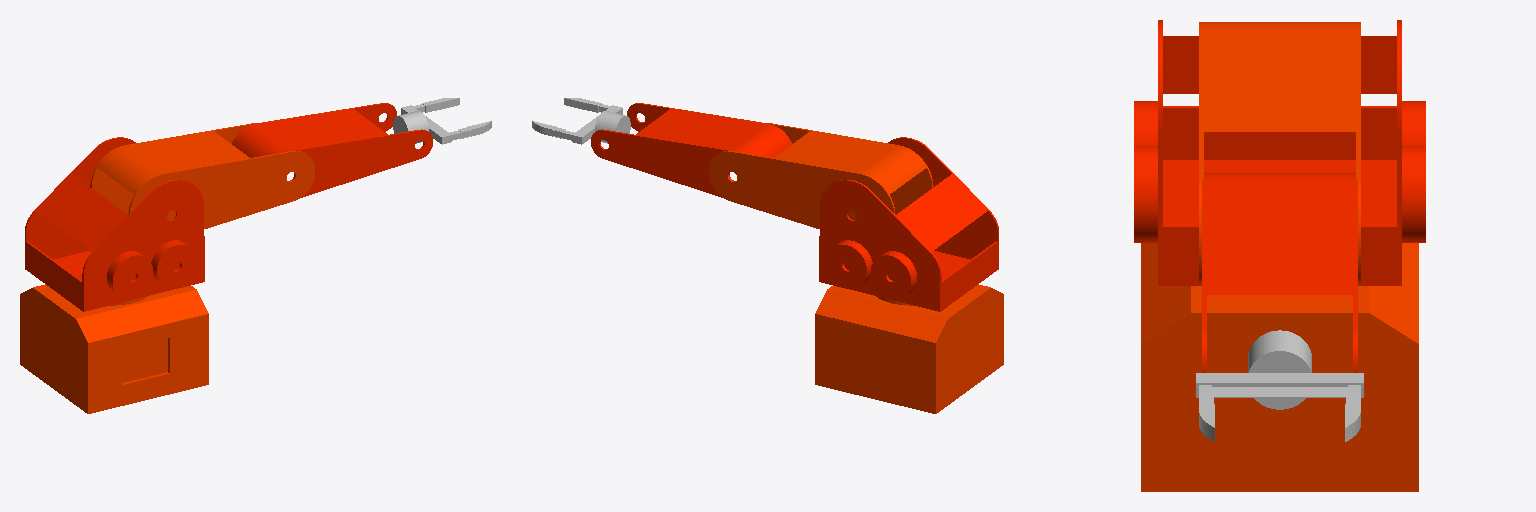
URDF robot description (cobra_rs2):
<?xml version="1.0" ?>
<robot name="cobra_rs2">

<!-- ROBOT -->

  <!-- LINKS -->

  <link name="base_link">
    <visual>
      <geometry>
        <mesh filename="package://cobra_rs2_moveit_config/meshes/base.stl" scale="0.001 0.001 0.001"/>
      </geometry>
      <material name="orange">
        <color rgba="1 0.3 0 1"/>
      </material>
      <origin xyz="-0.089 0 0"/>
    </visual>
    <collision>
      <origin xyz="-0.089 0 0"/>
      <geometry>
        <mesh filename="package://cobra_rs2_moveit_config/meshes/base.stl" scale="0.001 0.001 0.001"/>
      </geometry>
    </collision>
  </link>

  <link name="body_link">
    <visual>
      <geometry>
        <mesh filename="package://cobra_rs2_moveit_config/meshes/body.stl" scale="0.001 0.001 0.001"/>
      </geometry>
      <material name="orangetwo">
        <color rgba="1 0.2 0 1"/>
      </material>
    </visual>
    <collision>
      <geometry>
        <mesh filename="package://cobra_rs2_moveit_config/meshes/body.stl" scale="0.001 0.001 0.001"/>
      </geometry>
    </collision>
  </link>

  <link name="arm_one_link">
    <visual>
      <geometry>
        <mesh filename="package://cobra_rs2_moveit_config/meshes/upper_arm.stl" scale="0.001 0.001 0.001"/>
      </geometry>
      <material name="orange"/>
      <origin xyz="0.095 0 0" rpy="-1.5708 0 0"/>
    </visual>
    <collision>
      <origin xyz="0.095 0 0" rpy="-1.5708 0 0"/>
      <geometry>
        <mesh filename="package://cobra_rs2_moveit_config/meshes/upper_arm.stl" scale="0.001 0.001 0.001"/>
      </geometry>
    </collision>
  </link>

  <link name="arm_two_link">
    <visual>
      <geometry>
        <mesh filename="package://cobra_rs2_moveit_config/meshes/lower_arm.stl" scale="0.001 0.001 0.001"/>
      </geometry>
      <material name="orangetwo"/>
      <origin xyz="0.095 0 0" rpy="-1.5708 0 0"/>
    </visual>
    <collision>
      <origin xyz="0.095 0 0" rpy="-1.5708 0 0"/>
      <geometry>
        <mesh filename="package://cobra_rs2_moveit_config/meshes/lower_arm.stl" scale="0.001 0.001 0.001"/>
      </geometry>
    </collision>
  </link>

  <link name="hand_wrist">
    <visual>
      <geometry>
        <mesh filename="package://cobra_rs2_moveit_config/meshes/hand_wrist.stl" scale="0.001 0.001 0.001"/>
      </geometry>
      <material name="gray">
        <color rgba="0.8 0.8 0.8 1"/>
      </material>
      <origin xyz="0 0 0" rpy="0 1.5708 0"/>
    </visual>
    <collision>
      <origin xyz="0 0 0" rpy="0 1.5708 0"/>
      <geometry>
        <mesh filename="package://cobra_rs2_moveit_config/meshes/hand_wrist.stl" scale="0.001 0.001 0.001"/>
      </geometry>
    </collision>
  </link>

  <link name="hand_tool">
    <visual>
      <geometry>
        <mesh filename="package://cobra_rs2_moveit_config/meshes/hand_tool.stl" scale="0.001 0.001 0.001"/>
      </geometry>
      <material name="gray"/>
      <!-- EEF Offset x= 0.0075 -> -0.0525 -->
      <origin xyz="-0.0525 0 0" rpy="0 0 0"/>
    </visual>
    <collision>
      <origin xyz="-0.0525 0 0" rpy="0 0 0"/>
      <geometry>
        <mesh filename="package://cobra_rs2_moveit_config/meshes/hand_tool.stl" scale="0.001 0.001 0.001"/>
      </geometry>
    </collision>
  </link>

  <link name="finger_one">
    <visual>
      <geometry>
        <mesh filename="package://cobra_rs2_moveit_config/meshes/finger.stl" scale="0.001 0.001 0.001"/>
      </geometry>
      <material name="gray"/>
      <origin xyz="0.022 0 0"/>
    </visual>
    <collision>
      <origin xyz="0.022 0 0"/>
      <geometry>
        <mesh filename="package://cobra_rs2_moveit_config/meshes/finger.stl" scale="0.001 0.001 0.001"/>
      </geometry>
    </collision>
  </link>

  <link name="finger_two">
    <visual>
      <geometry>
        <mesh filename="package://cobra_rs2_moveit_config/meshes/finger.stl" scale="0.001 0.001 0.001"/>
      </geometry>
      <material name="gray"/>
      <origin xyz="0.022 0 0"/>
    </visual>
    <collision>
      <origin xyz="0.022 0 0"/>
      <geometry>
        <mesh filename="package://cobra_rs2_moveit_config/meshes/finger.stl" scale="0.001 0.001 0.001"/>
      </geometry>
    </collision>
  </link>

  <link name="thumb_one">
    <visual>
      <geometry>
        <mesh filename="package://cobra_rs2_moveit_config/meshes/thumb.stl" scale="0.001 0.001 0.001"/>
      </geometry>
      <material name="gray"/>
      <origin xyz="0 0 0" rpy="3.1416 0 0"/>
    </visual>
    <collision>
      <origin xyz="0 0 0" rpy="3.1416 0 0"/>
      <geometry>
        <mesh filename="package://cobra_rs2_moveit_config/meshes/thumb.stl" scale="0.001 0.001 0.001"/>
      </geometry>
    </collision>
  </link>

  <link name="thumb_two">
    <visual>
      <geometry>
        <mesh filename="package://cobra_rs2_moveit_config/meshes/thumb.stl" scale="0.001 0.001 0.001"/>
      </geometry>
      <material name="gray"/>
      <origin xyz="0 0 0" rpy="3.1416 0 0"/>
    </visual>
    <collision>
      <origin xyz="0 0 0" rpy="3.1416 0 0"/>
      <geometry>
        <mesh filename="package://cobra_rs2_moveit_config/meshes/thumb.stl" scale="0.001 0.001 0.001"/>
      </geometry>
    </collision>
  </link>

  <!-- LINKS END -->

  <!-- JOINTS -->

  <joint name="base_body" type="revolute">
    <parent link="base_link"/>
    <child link="body_link"/>
    <!-- lower: -170 Grad upper: 170 Grad -->
    <limit lower="-2.96706" upper="2.96706" effort="100" velocity="1" />
    <axis xyz="0 0 1"/>
    <origin xyz="0 0 0.14"/>
  </joint>

  <joint name="body_arm_one" type="revolute">
    <parent link="body_link"/>
    <child link="arm_one_link"/>
    <!-- lower: -25 Grad upper: 135 Grad -->
    <limit lower="-0.4363" upper="2.3562" effort="100" velocity="1" />
    <axis xyz="0 0 1"/>
    <origin xyz="0.041 0 0.105" rpy="1.5708 0 0"/>
    <!-- Arm im 45 Grad Winkel: p= -.7854 -->
  </joint>

  <joint name="arm_one_two" type="revolute">
    <parent link="arm_one_link"/>
    <child link="arm_two_link"/>
    <!-- lower: -140 Grad upper: 45 Grad -->
    <limit lower="-2.4435" upper="0.7854" effort="100" velocity="1" />
    <axis xyz="0 0 1"/>
    <origin xyz="0.19 0 0"/>
  </joint>

  <joint name="arm_two_hand" type="revolute">
    <parent link="arm_two_link"/>
    <child link="hand_wrist"/>
    <!-- lower: 90 Grad upper: 90 Grad -->
    <limit lower="-1.5708" upper="1.5708" effort="100" velocity="1" />
    <axis xyz="0 0 1"/>
    <origin xyz="0.19 0 0"/>
  </joint>

  <joint name="hand_wrist_tool" type="revolute">
    <parent link="hand_wrist"/>
    <child link="hand_tool"/>
    <!-- lower: -180 Grad upper: 180 Grad -->
    <limit lower="-3.1416" upper="3.1416" effort="100" velocity="1" />
    <axis xyz="1 0 0"/>
    <!-- EEF Offset: (tool + finger+ thumb)= ca 6cm -->
    <!-- x=0.03 -> 0.09 -->
    <origin xyz="0.09 0 0" rpy="-1.5708 0 0"/>
  </joint>

  <joint name="gripper_finger_one" type="prismatic">
    <parent link="hand_tool"/>
    <child link="finger_one"/>
    <!-- 4cm Weg, 8cm Spanne -->
    <limit lower="0.0" upper="0.04" effort="100" velocity="1" />
    <axis xyz="0 1 0"/>
    <!-- EEF Offset: (tool + finger+ thumb)= ca 6cm -->
    <!-- x=0.001 -> -0.059 -->
    <origin xyz="-0.059 0.046 0" rpy="3.1416 0 0"/>
  </joint>

  <joint name="gripper_finger_two" type="prismatic">
    <parent link="hand_tool"/>
    <child link="finger_two"/>
    <mimic joint="gripper_finger_one" multiplier="1.0" offset="0.0" />
    <!-- 4cm Weg, 8cm Spanne -->
    <limit lower="0" upper="0.04" effort="100" velocity="1" />
    <axis xyz="0 1 0"/>
    <!-- EEF Offset: (tool + finger+ thumb)= ca 6cm -->
    <!-- x=0.001 -> -0.059 -->
    <origin xyz="-0.059 -0.046 0"/>
  </joint>

  <joint name="finger_thumb_one" type="fixed">
    <parent link="finger_one"/>
    <child link="thumb_one"/>
    <origin xyz="0.044 0 0" />
  </joint>

  <joint name="finger_thumb_two" type="fixed">
    <parent link="finger_two"/>
    <child link="thumb_two"/>
    <origin xyz="0.044 0 0"/>
  </joint>

  <!-- JOINTS END -->

<!-- ROBOT END -->

</robot>

--- Facts derived from the render (not from the file) ---
3 views of the same robot in one strip: view 1: azimuth 30°, elevation 25°; view 2: azimuth 150°, elevation 25°; view 3: azimuth 270°, elevation 25° (orthographic).
Robot: cobra_rs2 — 10 links, 9 joints (5 revolute, 2 prismatic, 2 fixed); root link base_link; default pose: all joints at 0.
Visible links, largest first — view 1: body_link, base_link, arm_one_link, arm_two_link, hand_wrist; view 2: body_link, base_link, arm_one_link, arm_two_link, hand_wrist; view 3: base_link, body_link, arm_two_link, arm_one_link, hand_tool, hand_wrist, thumb_one, thumb_two.
Boxes of the visible links, left/top/right/bottom form: body_link: left=25, top=137, right=204, bottom=311; base_link: left=20, top=284, right=208, bottom=413; arm_one_link: left=90, top=123, right=314, bottom=228; arm_two_link: left=232, top=103, right=432, bottom=197; hand_wrist: left=393, top=111, right=428, bottom=143; body_link: left=819, top=137, right=998, bottom=311; base_link: left=815, top=284, right=1003, bottom=413; arm_one_link: left=709, top=123, right=933, bottom=228; arm_two_link: left=591, top=103, right=791, bottom=197; hand_wrist: left=595, top=111, right=630, bottom=143; base_link: left=1141, top=243, right=1418, bottom=491; body_link: left=1134, top=20, right=1425, bottom=285; arm_two_link: left=1202, top=173, right=1357, bottom=372; arm_one_link: left=1199, top=22, right=1360, bottom=285; hand_tool: left=1196, top=373, right=1363, bottom=397; hand_wrist: left=1248, top=330, right=1311, bottom=409; thumb_one: left=1345, top=394, right=1360, bottom=441; thumb_two: left=1199, top=394, right=1214, bottom=441.
Bounding box of the posed robot: 0.6202 × 0.18 × 0.2929 m (x, y, z).
10 mesh visuals loaded from 8 distinct referenced files (8 binary STL).